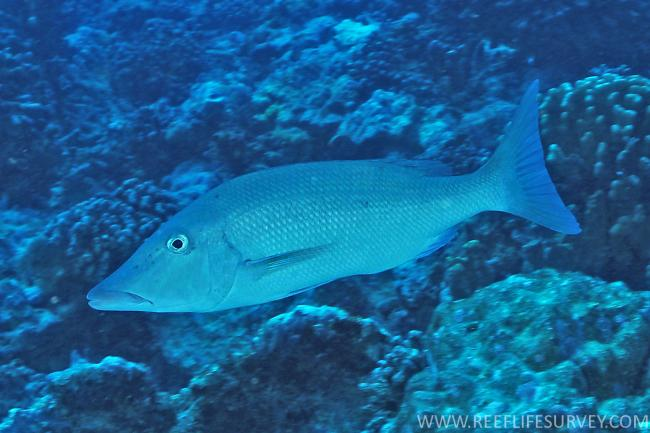fish: (85, 79, 585, 313)
